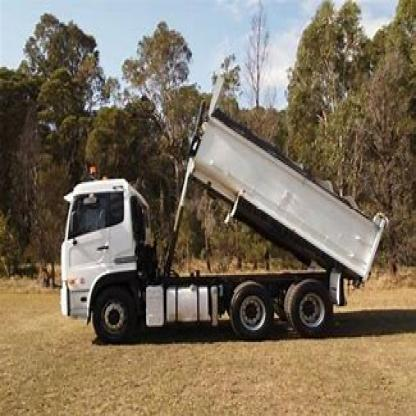dump_truck: (51, 76, 389, 342)
